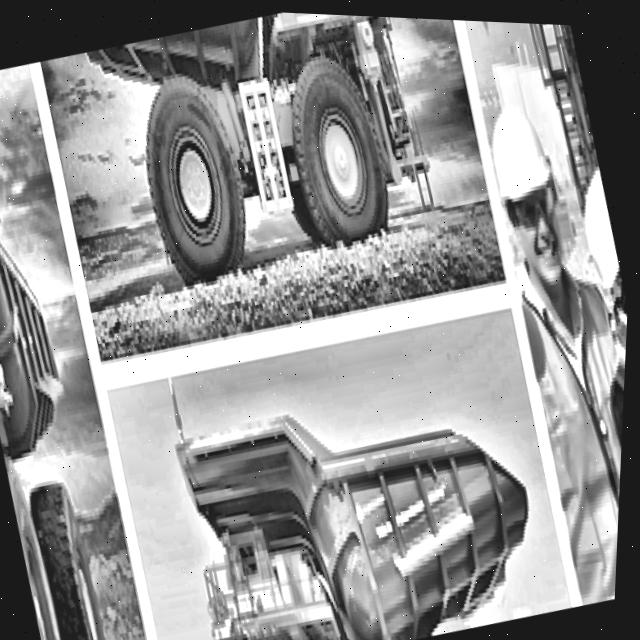dump_truck: (49, 2, 471, 319), (157, 306, 547, 640)
